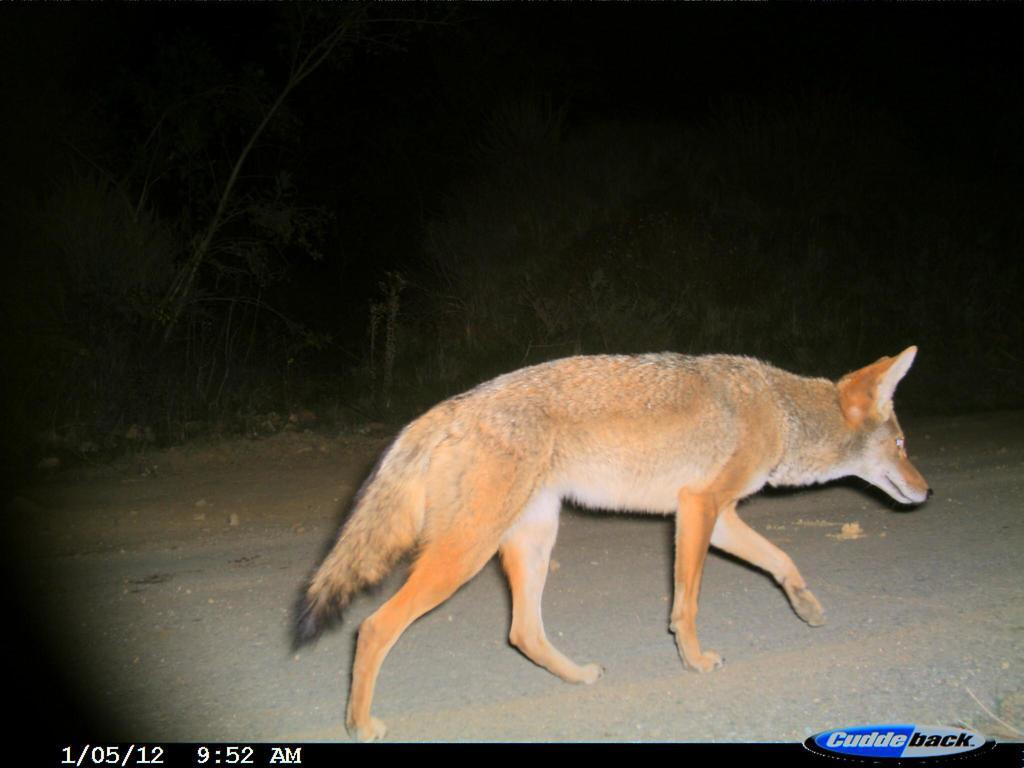coyote: (285, 338, 944, 744)
